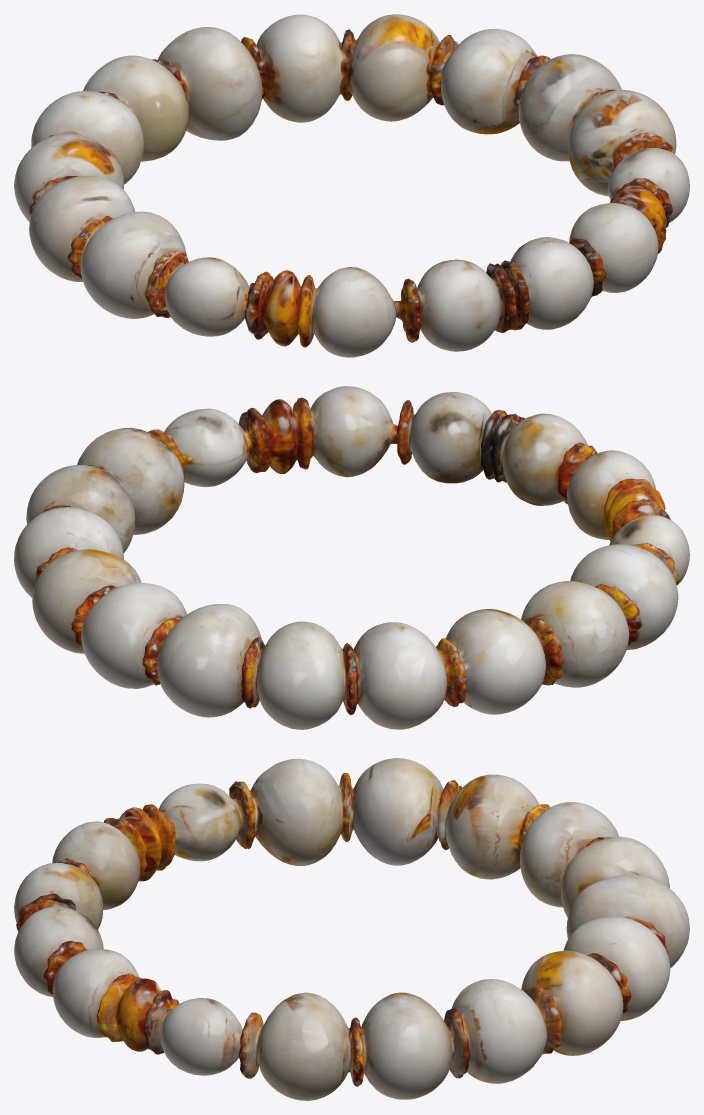
The picture shows the model from 3 angles, top to bottom: view 1: azimuth 30°, elevation 25°; view 2: azimuth 150°, elevation 25°; view 3: azimuth 270°, elevation 25°; orthographic projection.
Parts seen in each view (by area): view 1: Mesh_0; view 2: Mesh_0; view 3: Mesh_0.
Boxes of the visible parts, x1=… form: Mesh_0: x1=14, y1=14, x2=689, y2=357; Mesh_0: x1=14, y1=386, x2=689, y2=729; Mesh_0: x1=14, y1=758, x2=689, y2=1100.
Size of the model in its own units: 198 by 32.83 by 200.
Materials: 1 (1 with a texture image).
